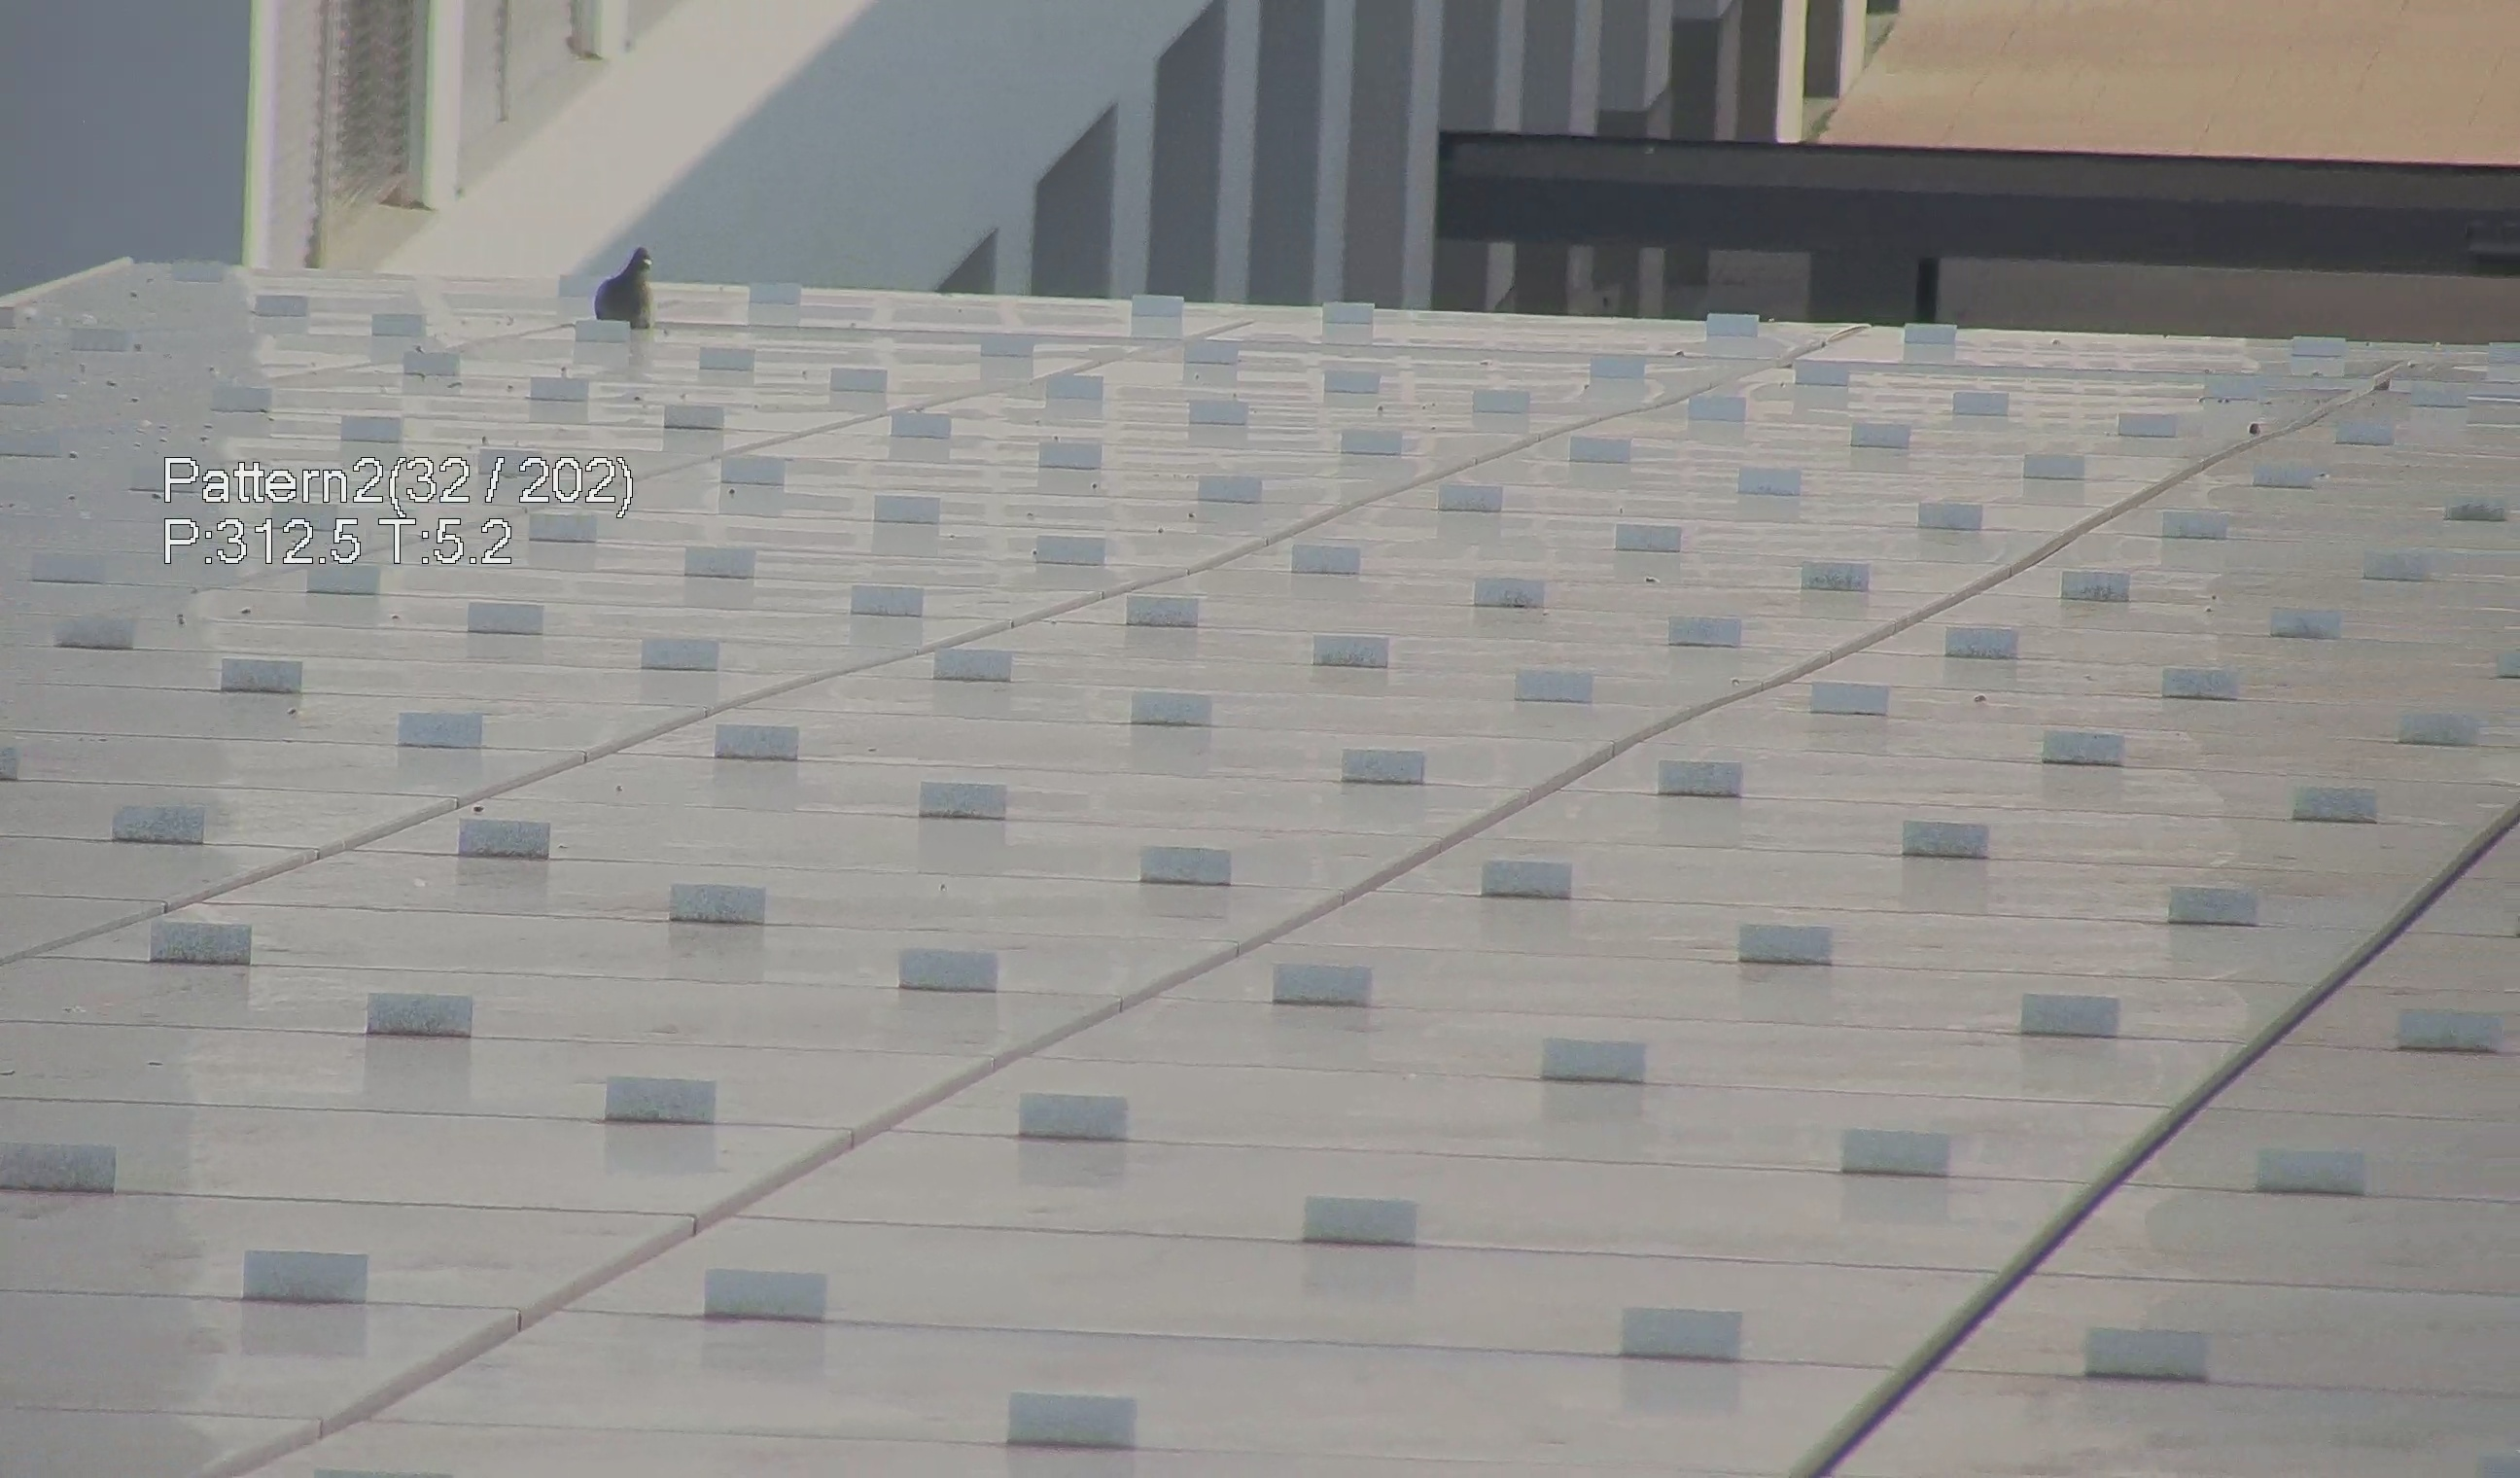Pigeon: (573, 236, 656, 338)
